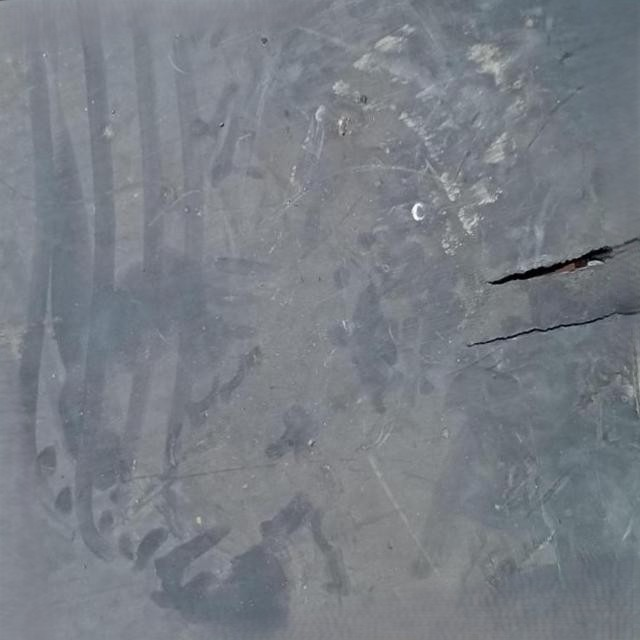Tear: (469, 226, 637, 292), (452, 302, 630, 352)
